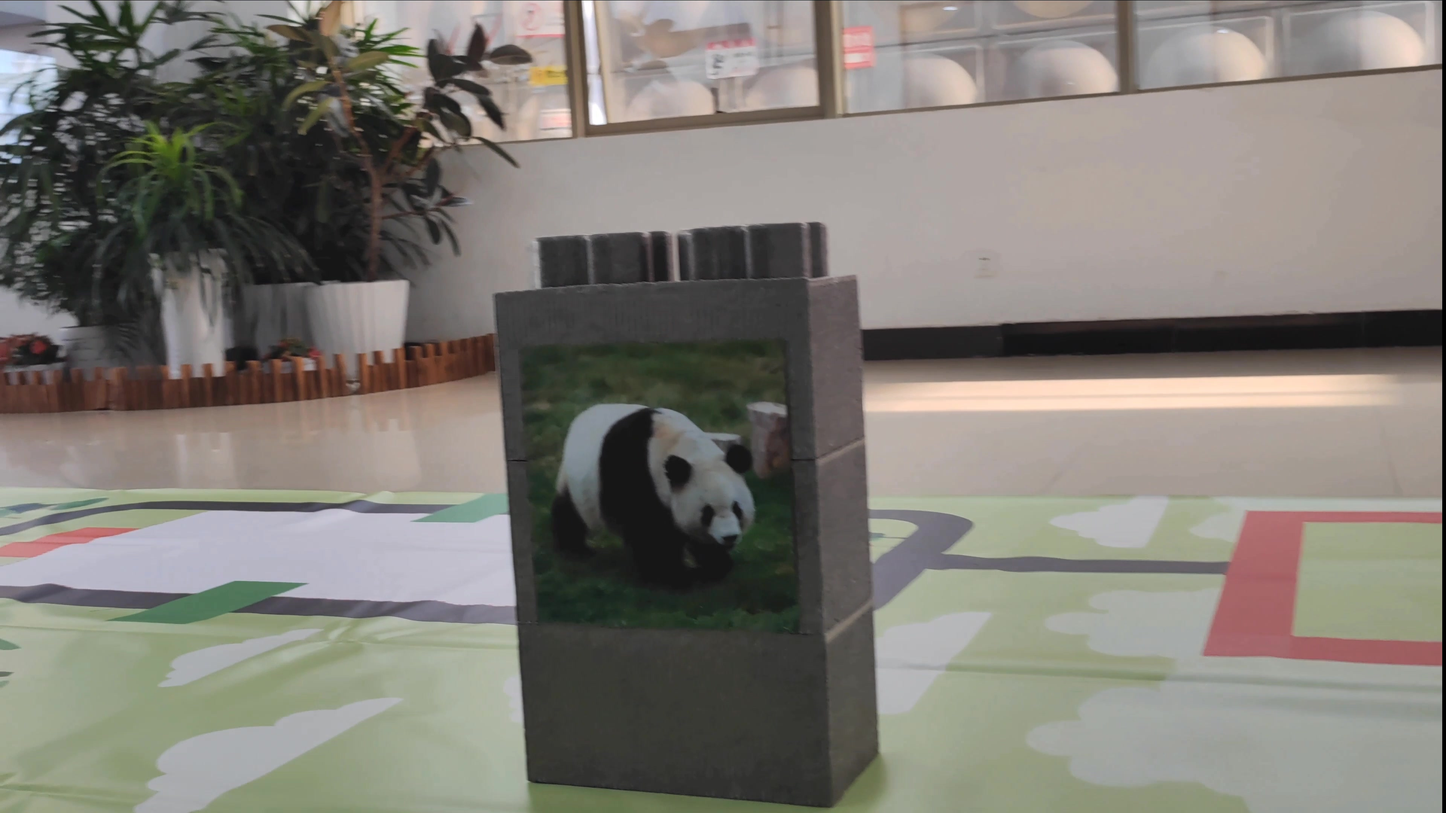panda: (548, 343, 757, 593)
